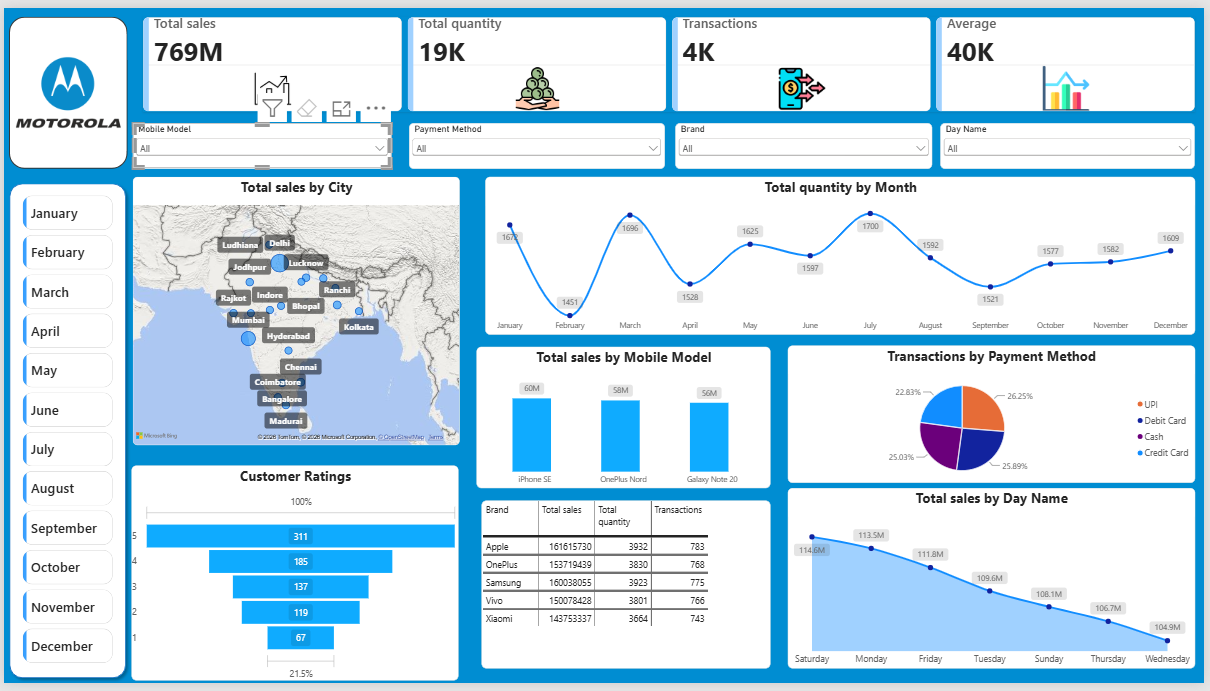

The page's visual inventory and layout, read from the dashboard file:
{"tool":"powerbi","page":{"name":"Page 1","canvas":[1920,1080],"ordinal":0},"visuals":[{"type":"image","box":[8.1,14.3,189.4,242.9],"z":0},{"type":"shape","box":[0,271.7,203.8,808.9],"z":1000},{"type":"advancedSlicerVisual","fields":{"Values":["Mobile_sales_data.Date.Variation.Date Hierarchy.Month"]},"box":[30.9,300.5,144.1,755.4],"z":2000},{"type":"cardVisual","fields":{"Data":["Mobile_sales_data.Total sales","Mobile_sales_data.Total quantity","Mobile_sales_data.Transactions","Mobile_sales_data.Average"]},"box":[222,14.3,1684.2,152.7],"z":3000},{"type":"map","fields":{"Category":["Mobile_sales_data.City"],"Size":["Mobile_sales_data.Total sales"]},"box":[205.7,270.9,523.4,429.7],"z":3001},{"type":"lineChart","fields":{"Category":["Mobile_sales_data.Date.Variation.Date Hierarchy.Month","Mobile_sales_data.Date.Variation.Date Hierarchy.Day"],"Y":["Mobile_sales_data.Total quantity"]},"box":[769.8,270.9,1136.4,252.5],"z":3002},{"type":"clusteredColumnChart","fields":{"Category":["Mobile_sales_data.Mobile Model"],"Y":["Mobile_sales_data.Total sales"]},"box":[755.5,541.7,470.4,226.1],"z":3003},{"type":"pieChart","fields":{"Category":["Mobile_sales_data.Payment Method"],"Y":["Mobile_sales_data.Transactions"]},"box":[1254.5,539.7,651.7,219.9],"z":3004},{"type":"funnel","title":"Customer Ratings","fields":{"Category":["Mobile_sales_data.Customer Ratings"],"Y":["CountNonNull(Mobile_sales_data.Customer Ratings)"]},"box":[203.6,731.1,523.4,344.2],"z":3005},{"type":"areaChart","fields":{"Category":["Mobile_sales_data.Day Name"],"Y":["Mobile_sales_data.Total sales"]},"box":[1254.5,767.8,651.7,289.2],"z":3006},{"type":"tableEx","fields":{"Values":["Mobile_sales_data.Brand","Mobile_sales_data.Total sales","Mobile_sales_data.Total quantity","Mobile_sales_data.Transactions"]},"box":[763.7,788.1,462.3,268.8],"z":3007},{"type":"slicer","fields":{"Values":["Mobile_sales_data.Mobile Model"]},"box":[205.7,183.3,413.4,73.3],"z":3008},{"type":"slicer","fields":{"Values":["Mobile_sales_data.Payment Method"]},"box":[647.6,183.3,409.3,73.3],"z":3009},{"type":"slicer","fields":{"Values":["Mobile_sales_data.Brand"]},"box":[1073.2,183.3,411.4,73.3],"z":3010},{"type":"slicer","fields":{"Values":["Mobile_sales_data.Day Name"]},"box":[1498.9,183.3,407.3,73.3],"z":3011}]}

Visuals, with their boxes in screenshot pixels (x1, y1, x2, y2), scaled from the page's 1920x1080 canvas onto the 1210x691 screenshot:
image: bbox(5, 9, 124, 165)
shape: bbox(0, 174, 128, 690)
advancedSlicerVisual - Mobile_sales_data.Date.Variation.Date Hierarchy.Month: bbox(19, 192, 110, 676)
cardVisual - Mobile_sales_data.Total sales x Mobile_sales_data.Total quantity: bbox(140, 9, 1201, 107)
map - Mobile_sales_data.City x Mobile_sales_data.Total sales: bbox(130, 173, 459, 448)
lineChart - Mobile_sales_data.Date.Variation.Date Hierarchy.Month x Mobile_sales_data.Date.Variation.Date Hierarchy.Day: bbox(485, 173, 1201, 335)
clusteredColumnChart - Mobile_sales_data.Mobile Model x Mobile_sales_data.Total sales: bbox(476, 347, 773, 491)
pieChart - Mobile_sales_data.Payment Method x Mobile_sales_data.Transactions: bbox(791, 345, 1201, 486)
"Customer Ratings" funnel: bbox(128, 468, 458, 688)
areaChart - Mobile_sales_data.Day Name x Mobile_sales_data.Total sales: bbox(791, 491, 1201, 676)
tableEx - Mobile_sales_data.Brand x Mobile_sales_data.Total sales: bbox(481, 504, 773, 676)
slicer - Mobile_sales_data.Mobile Model: bbox(130, 117, 390, 164)
slicer - Mobile_sales_data.Payment Method: bbox(408, 117, 666, 164)
slicer - Mobile_sales_data.Brand: bbox(676, 117, 936, 164)
slicer - Mobile_sales_data.Day Name: bbox(945, 117, 1201, 164)
